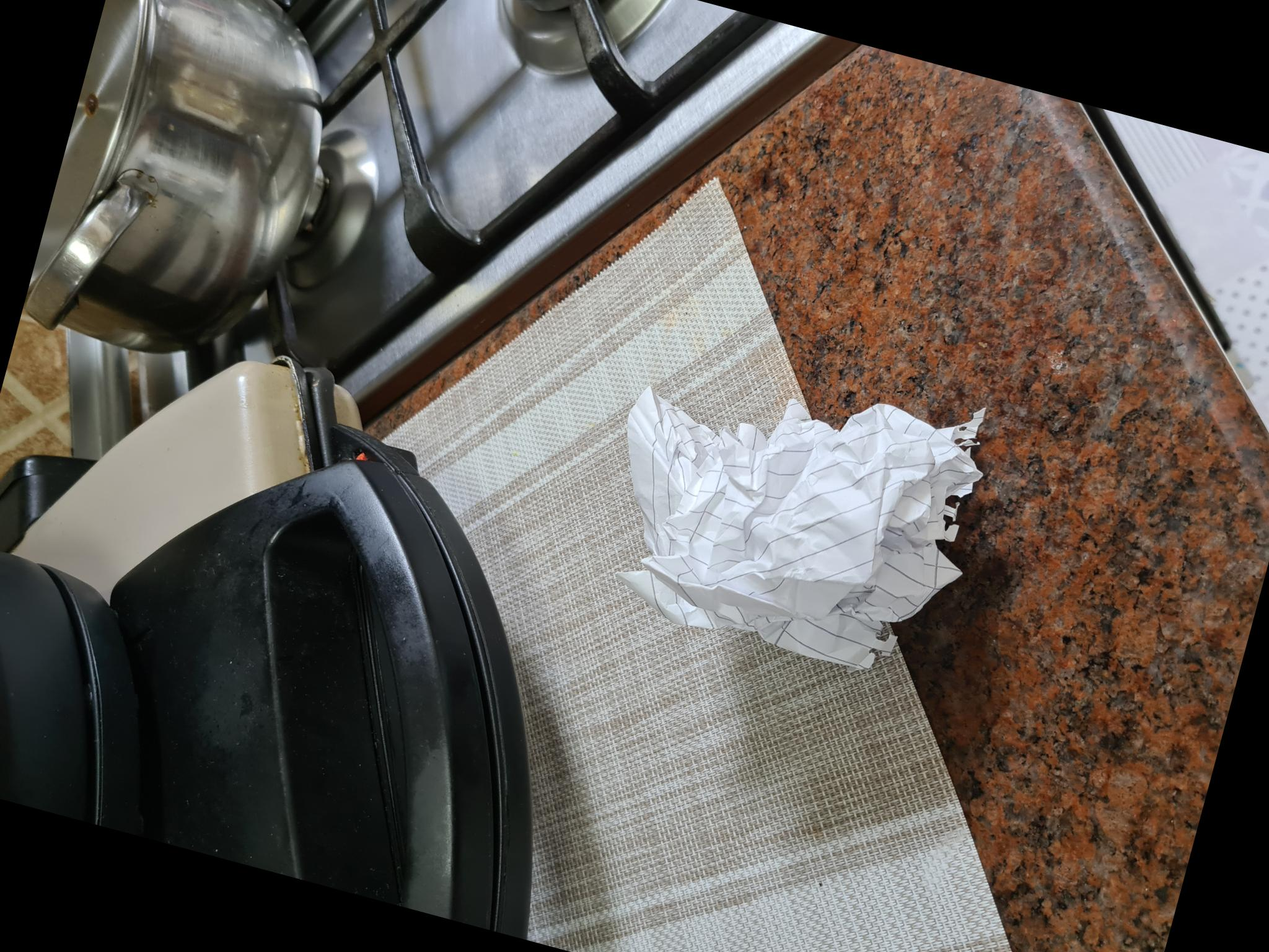Kertas: (251, 576, 524, 932)
